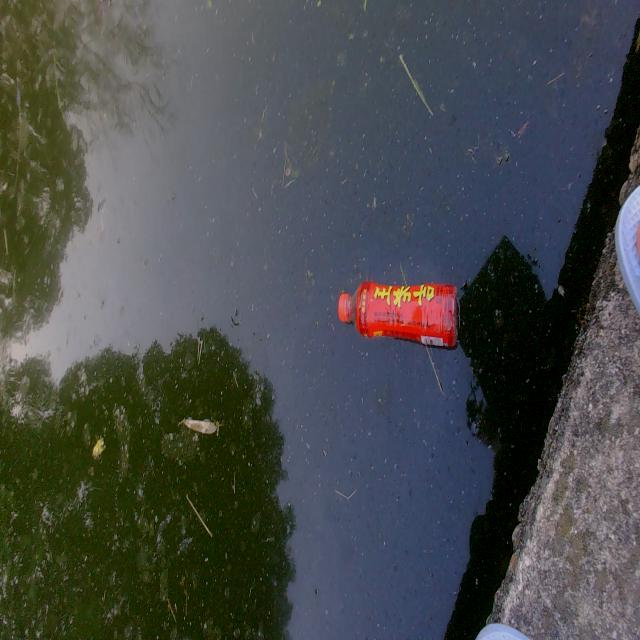bottle: (323, 271, 471, 356)
